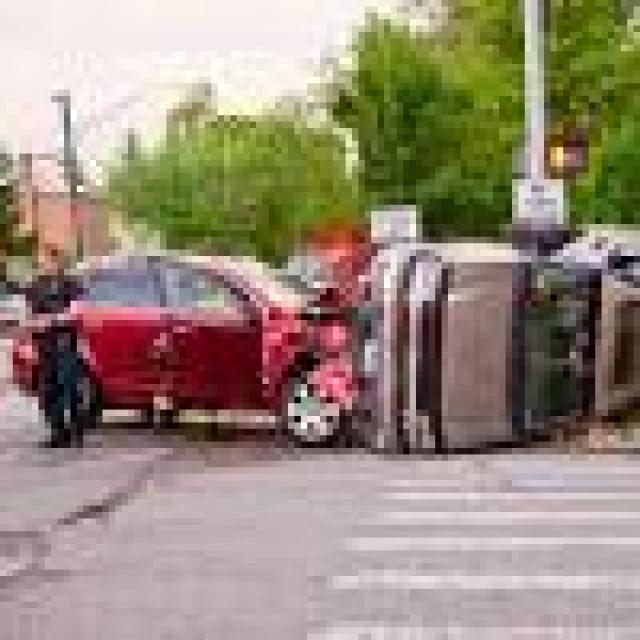accident: (26, 193, 620, 494), (358, 212, 638, 462)
